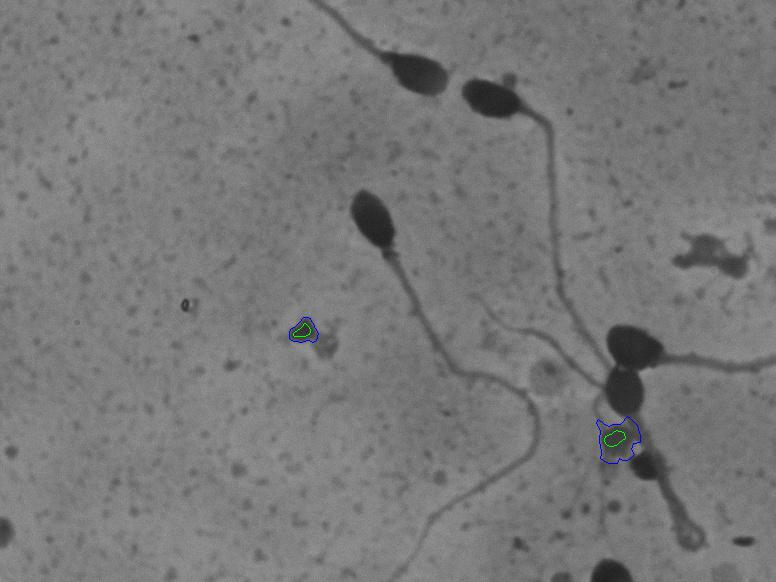Abnormal: (455, 59, 614, 288)
Normal: (339, 176, 549, 571)
